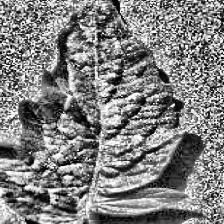spider mites: (0, 0, 189, 224)
